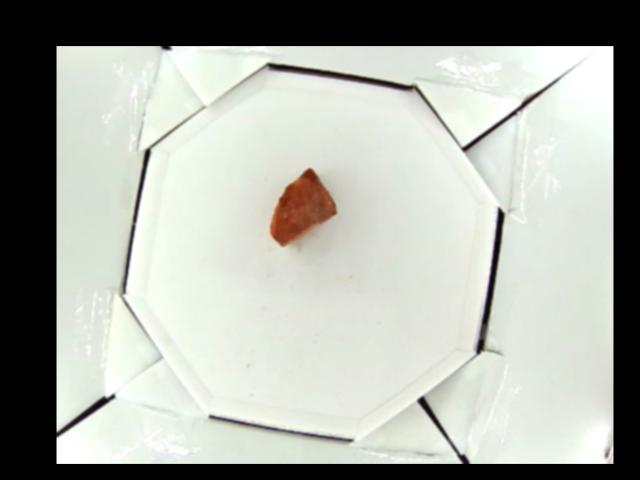Brisk: (267, 167, 336, 245)
